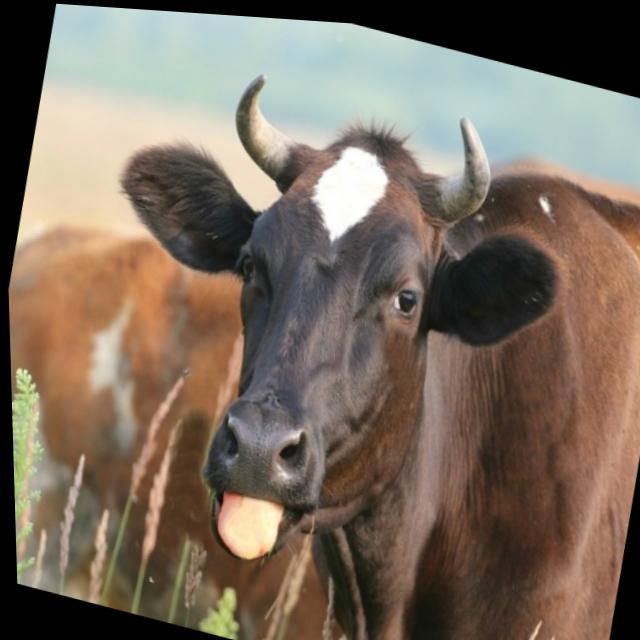cowFace: (39, 27, 605, 635)
